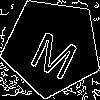M: (27, 22, 85, 81)
